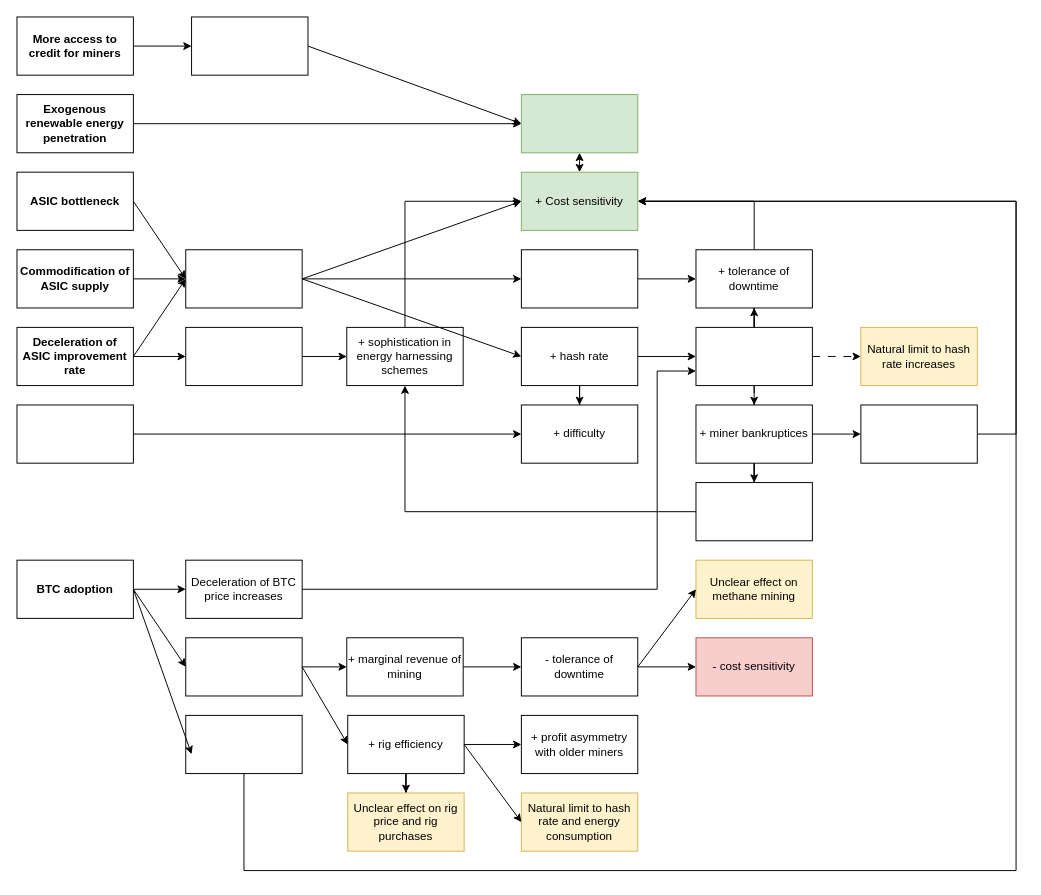
Image size: 1041x895. Some labels were removed from this diagram. Here are the shapes that lost their labels. From the top down, the centre of each, then its label:
At point (249, 45): "Additional renewable buildout".
At point (579, 123): "+ intermittency and need for cost-sensitive loads".
At point (243, 278): "+ ASIC supply".
At point (579, 278): "- CAPEX".
At point (243, 356): "+ level competition in hardware terms".
At point (753, 356): "- marginal revenue of mining".
At point (74, 433): "Halving".
At point (918, 433): "+ vertical integration with RE generators".
At point (753, 511): "+ acquisitions from miners better at harnessing energy".
At point (243, 666): "+ BTC price".
At point (243, 744): "Information completeness".
